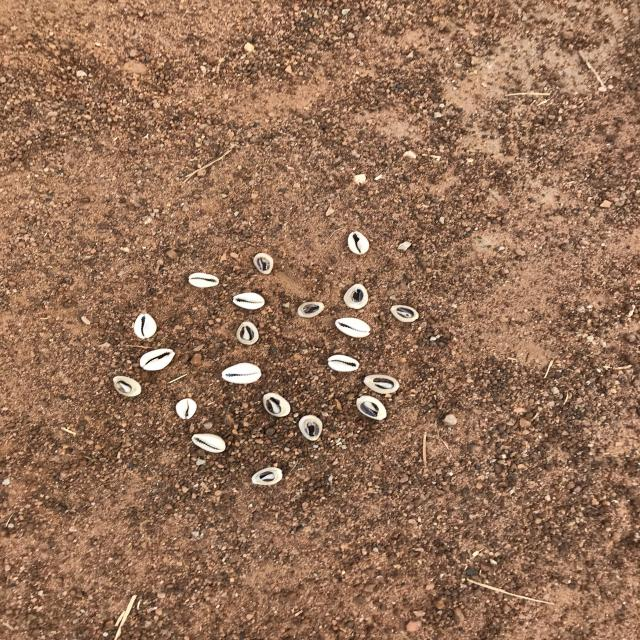facedown: (352, 394, 396, 425), (258, 390, 297, 420), (249, 248, 284, 281), (294, 412, 328, 443), (360, 374, 407, 396), (248, 464, 287, 490), (110, 374, 146, 401), (340, 282, 372, 311), (386, 302, 423, 326), (294, 298, 329, 322), (236, 318, 264, 348)
faceup: (218, 360, 266, 386), (134, 345, 178, 372), (128, 311, 162, 344), (343, 228, 377, 260), (187, 432, 231, 455), (230, 287, 268, 313), (323, 353, 366, 375), (334, 317, 374, 340), (185, 270, 225, 290), (171, 396, 201, 422)
